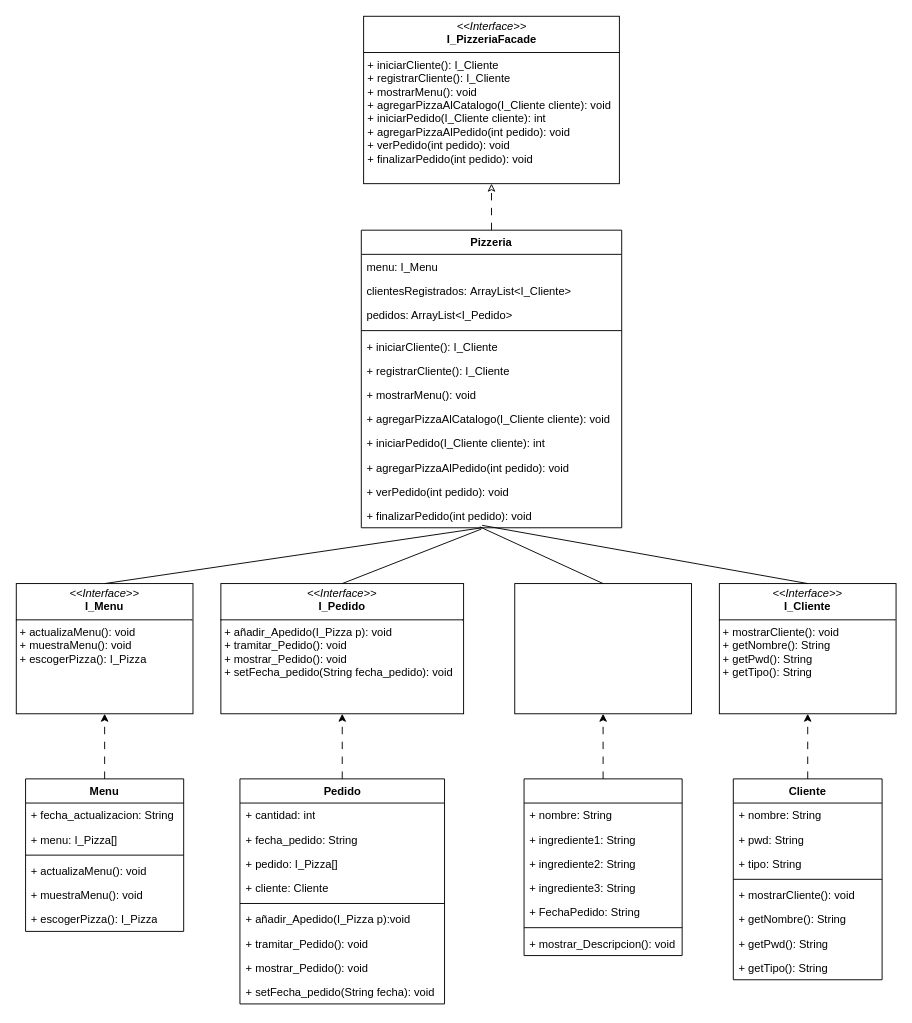
Image size: 912x1023. Some labels were removed from this diagram. The box of each missing label's shape, as (x1, y1, x2, y2) in pixels:
<<Interface>> I_Pizza + mostrar_Descripcion(): void: (514, 583, 691, 714)
Pizza: (523, 778, 682, 956)
